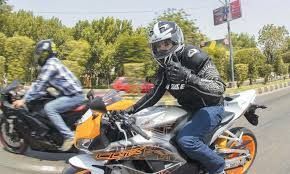helmet: (148, 20, 186, 66)
